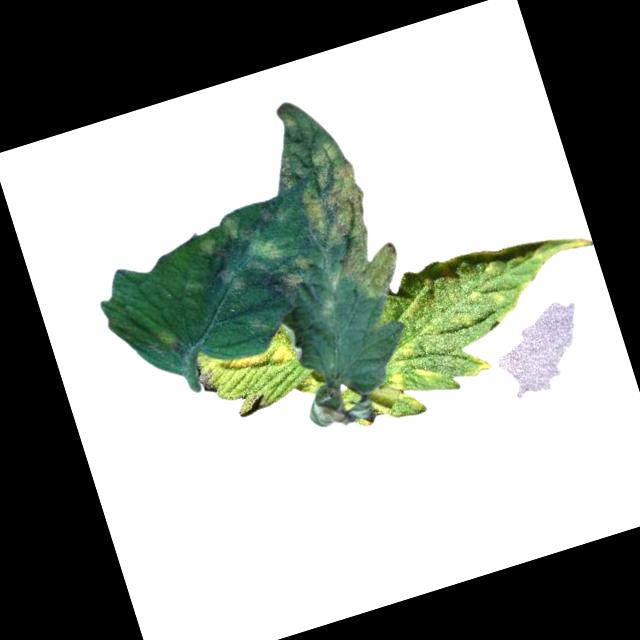Leaf_Mold: (348, 215, 624, 422), (255, 83, 408, 318), (189, 193, 322, 331), (204, 328, 295, 386)
